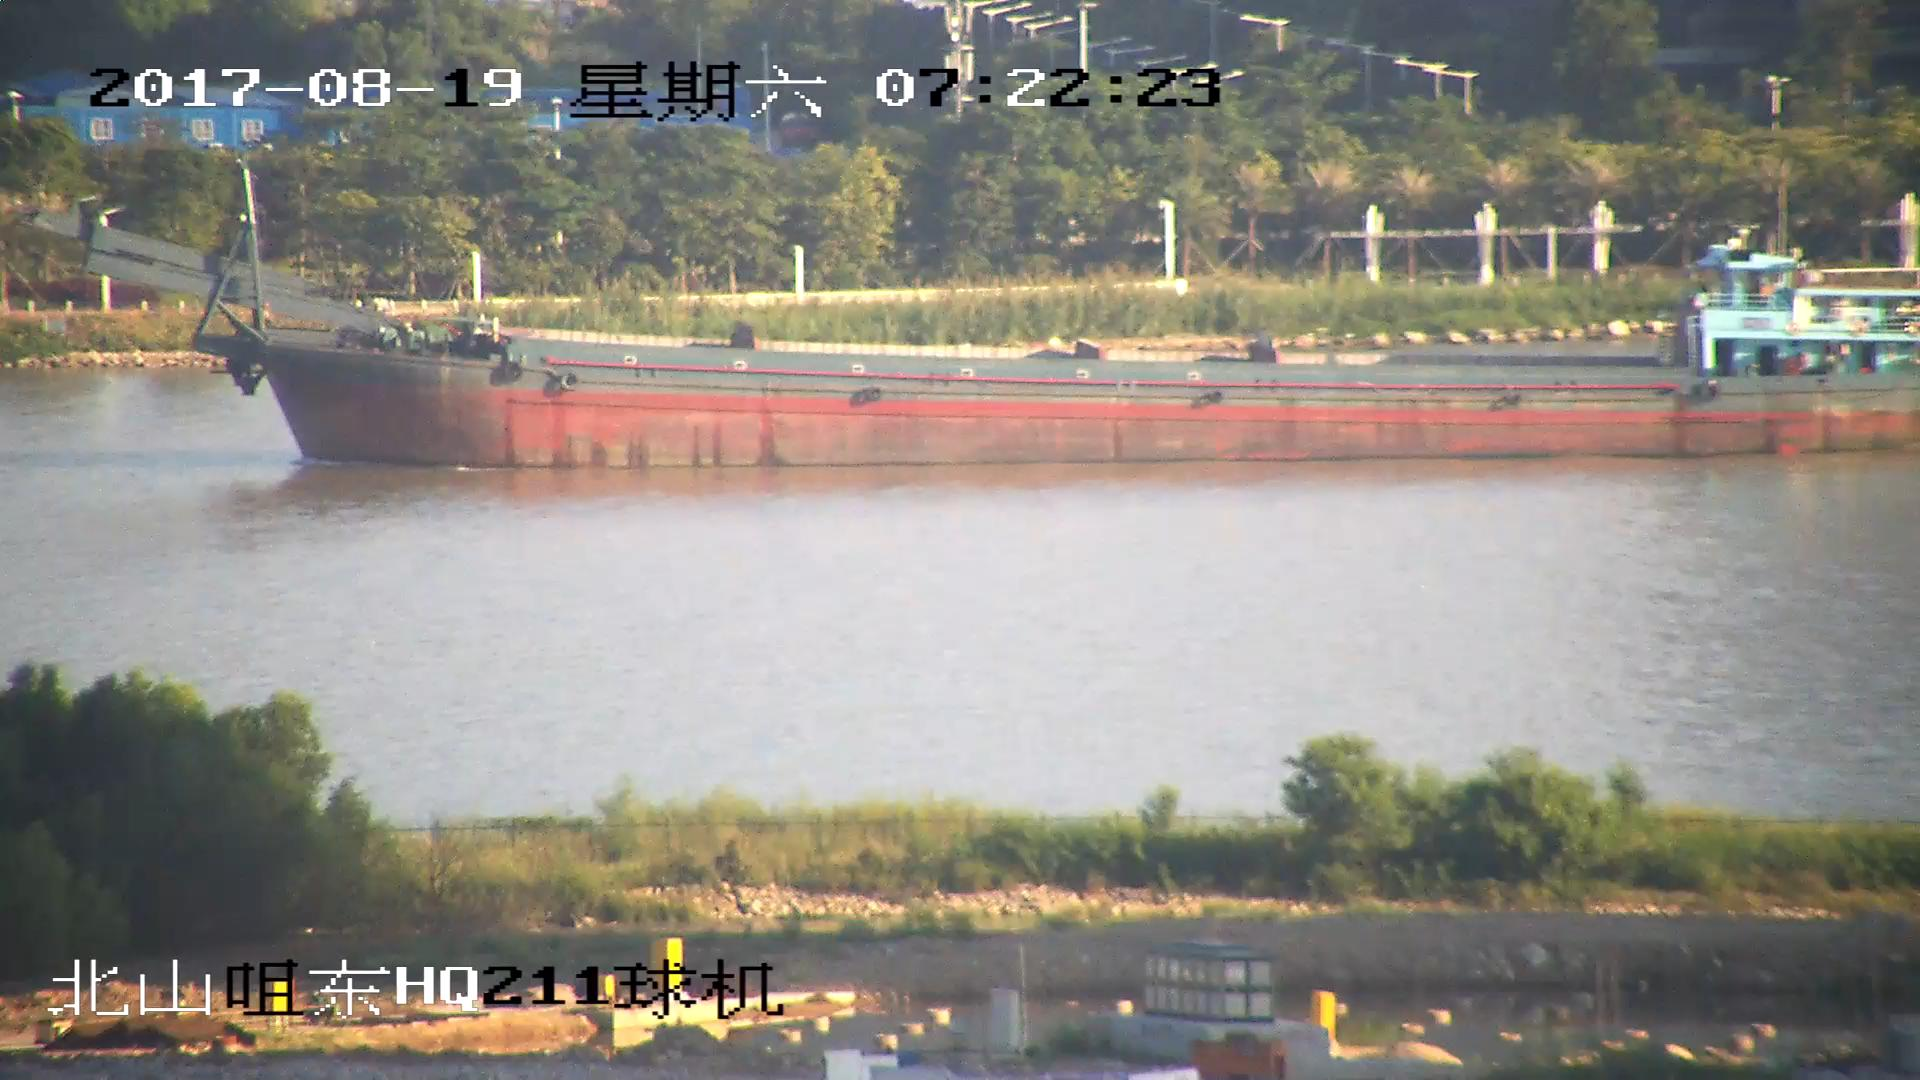bulk cargo carrier: (21, 171, 1920, 466)
